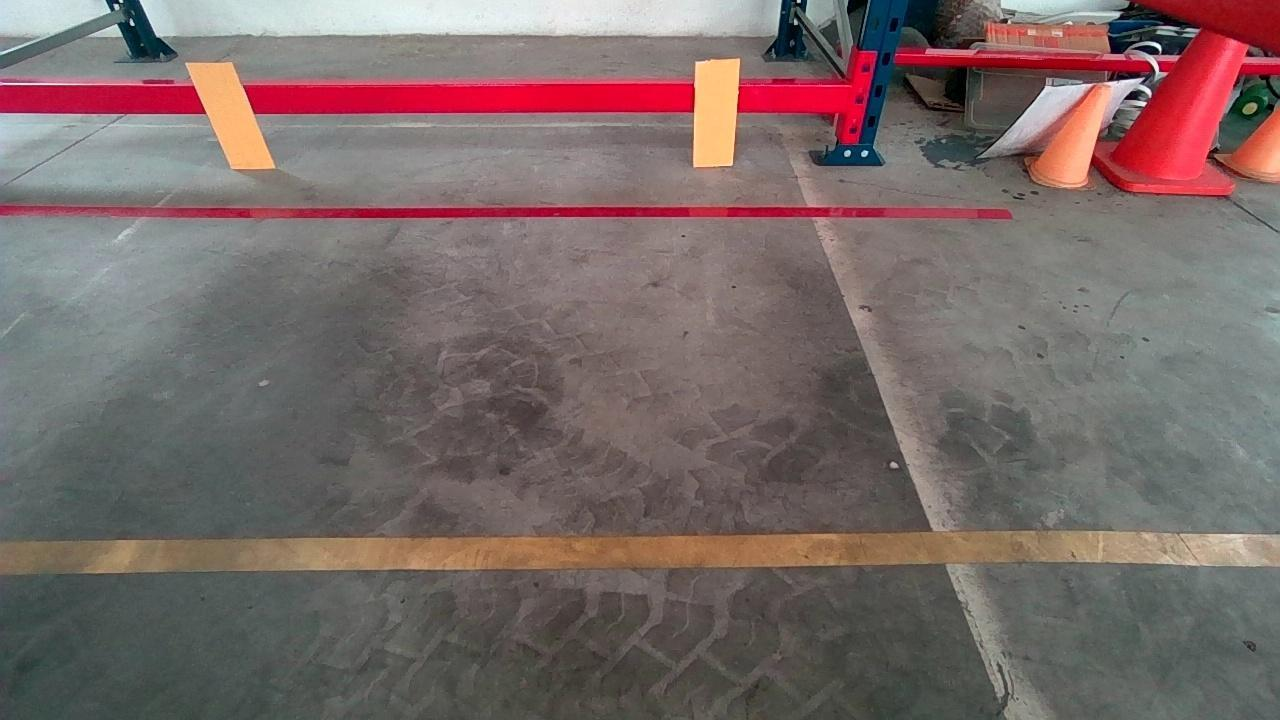h_rack: (3, 73, 839, 122)
orange_strip: (185, 62, 274, 166), (693, 60, 738, 165)
red_line: (1, 195, 1017, 225)
yellow_line: (0, 525, 1280, 585)
